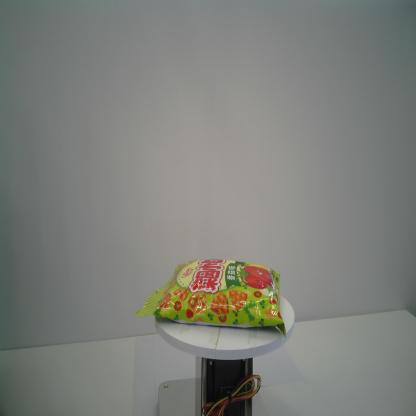Puffed Food: (134, 258, 286, 339)
